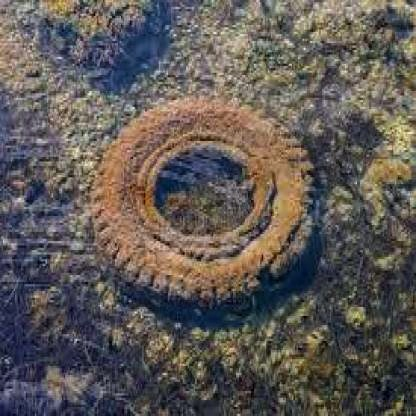tire: (103, 98, 324, 314)
